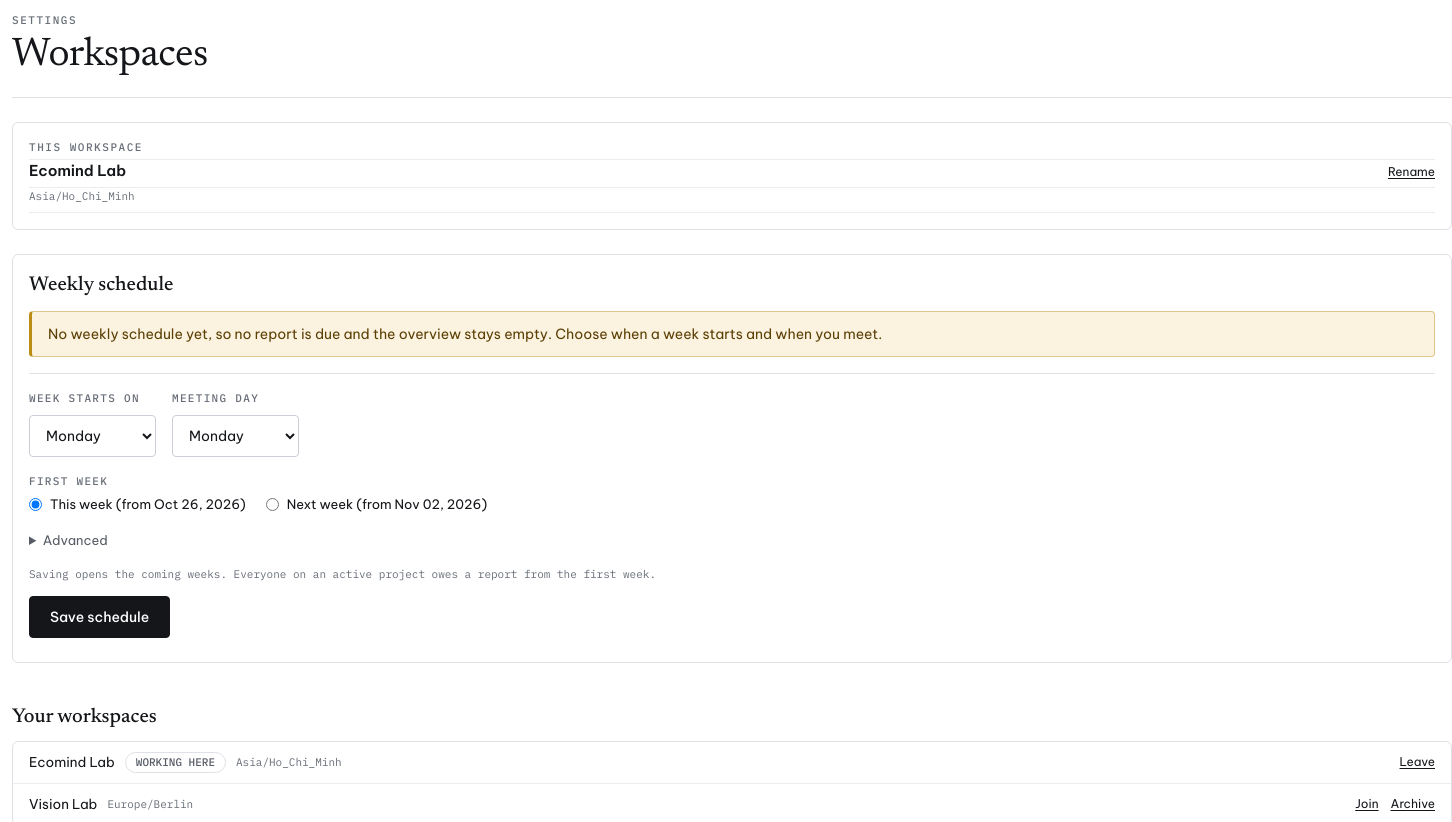
shows the API's reason when leaving would strand people
The width and height of the screenshot is (1452, 822).
Click the button "Leave" at (1417, 762), box [1400, 754, 1435, 770]
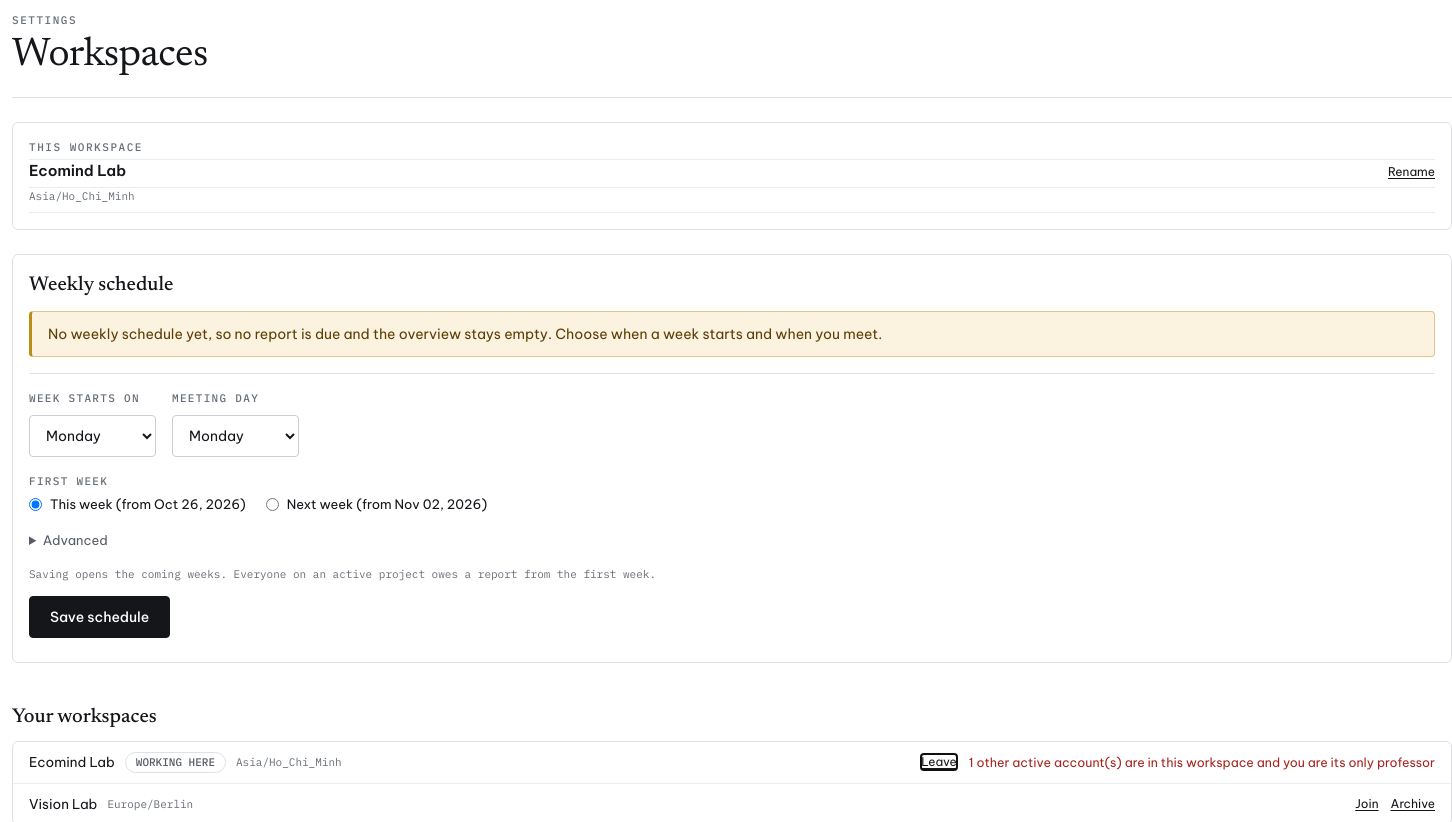
Check: the message shows "only professor", box [969, 754, 1435, 770]
